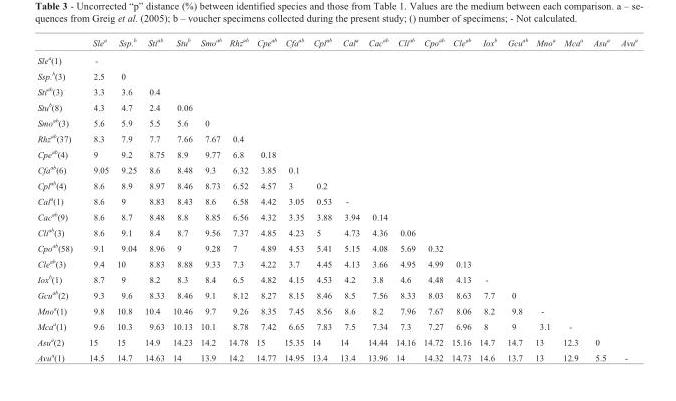table: (36, 37, 636, 362)
table column: (36, 37, 80, 362), (80, 37, 112, 362), (195, 37, 224, 362), (418, 37, 447, 362), (501, 37, 530, 362), (558, 37, 587, 362), (112, 37, 140, 362), (167, 37, 195, 362), (251, 37, 279, 362), (279, 37, 307, 362), (307, 37, 335, 362), (335, 37, 363, 362), (363, 37, 391, 362), (530, 37, 558, 362), (140, 37, 167, 362), (224, 37, 251, 362), (391, 37, 418, 362), (447, 37, 474, 362), (474, 37, 501, 362), (587, 37, 614, 362), (614, 37, 636, 362)
table column header: (36, 37, 636, 51)
table row: (36, 51, 636, 67), (36, 67, 636, 83), (36, 83, 636, 99), (36, 114, 636, 130), (36, 130, 636, 146), (36, 161, 636, 177), (36, 192, 636, 208), (36, 208, 636, 224), (36, 239, 636, 255), (36, 255, 636, 271), (36, 286, 636, 302), (36, 302, 636, 318), (36, 333, 636, 349), (36, 99, 636, 114), (36, 146, 636, 161), (36, 177, 636, 192), (36, 224, 636, 239), (36, 271, 636, 286), (36, 318, 636, 333), (36, 37, 636, 51), (36, 349, 636, 362)
